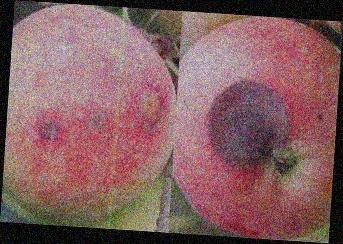rotten apple: (8, 6, 175, 226), (174, 17, 336, 237)
